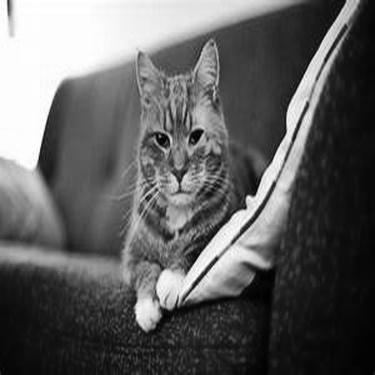cat: (125, 35, 269, 334)
